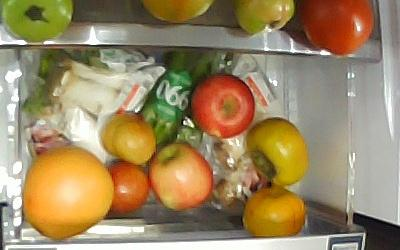apple: (149, 143, 213, 210), (191, 73, 254, 139)
grapefruit: (25, 148, 114, 240)
persimmon: (245, 117, 310, 186), (243, 187, 308, 238)
prune: (100, 112, 155, 165), (107, 161, 149, 215)
